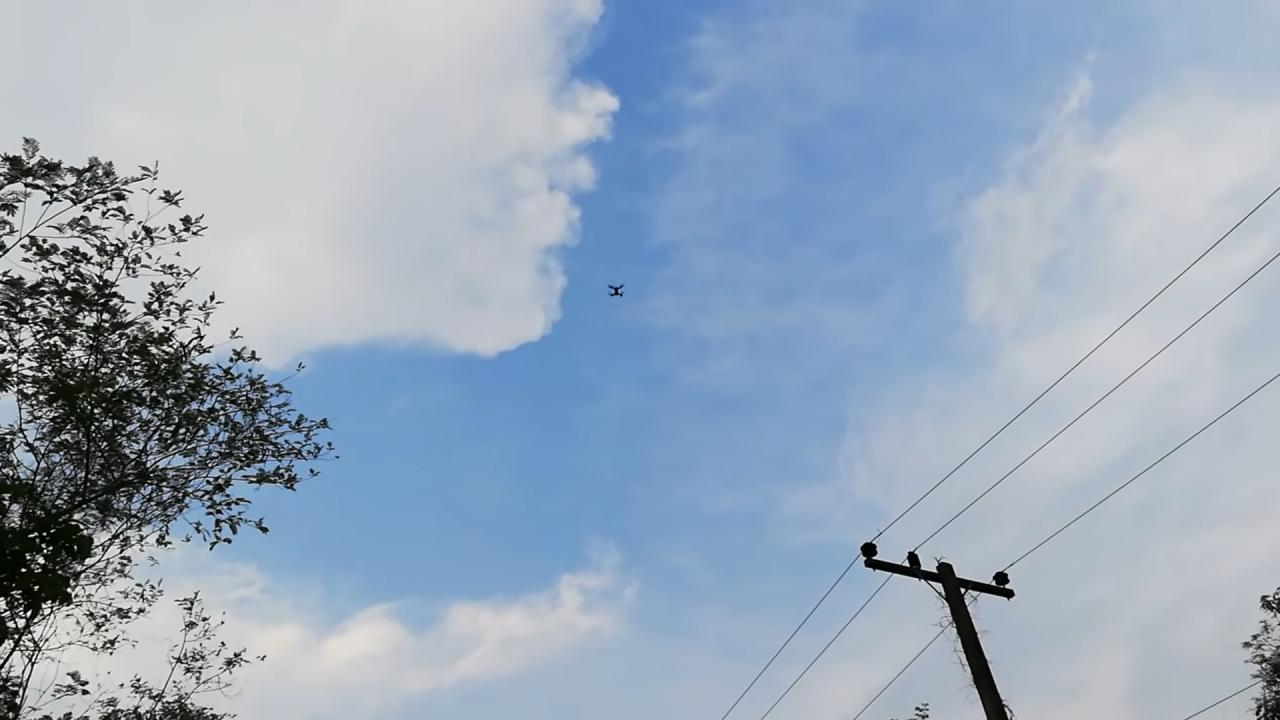Drone: (600, 275, 632, 302)
